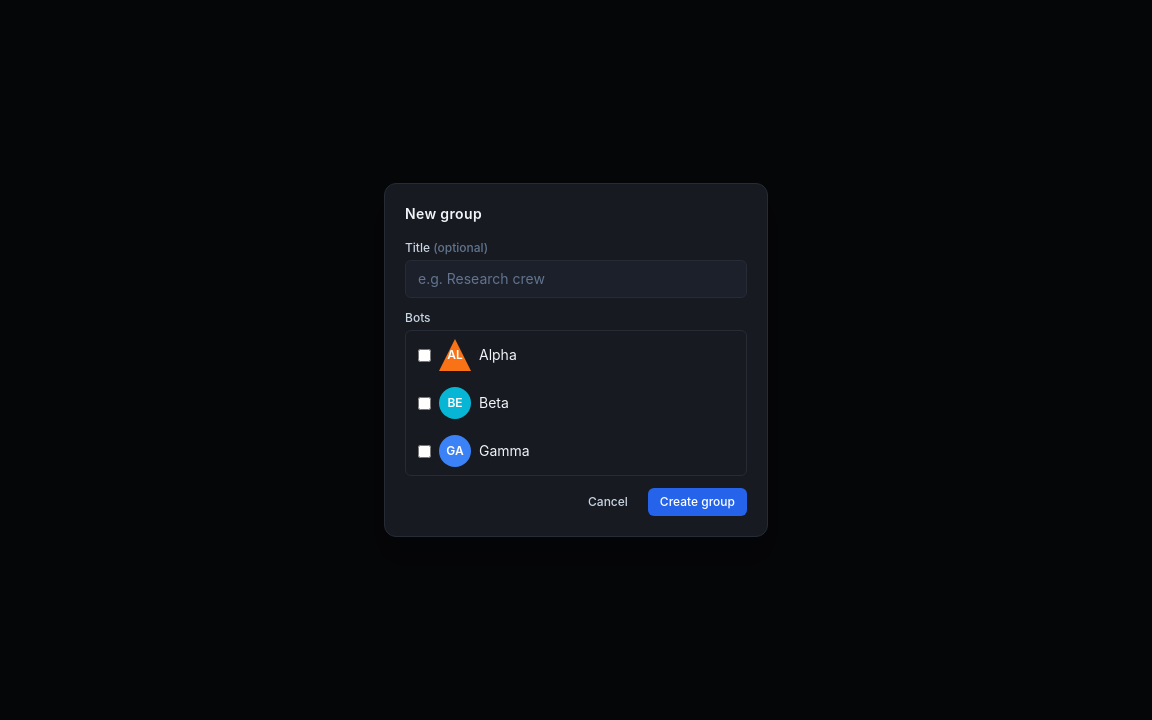
Test case: GroupThreadDialog › rejects fewer than two selected bots client-side without sending a request
Click the option "AL Alpha".
click(455, 355)  # box [406,331,746,379]
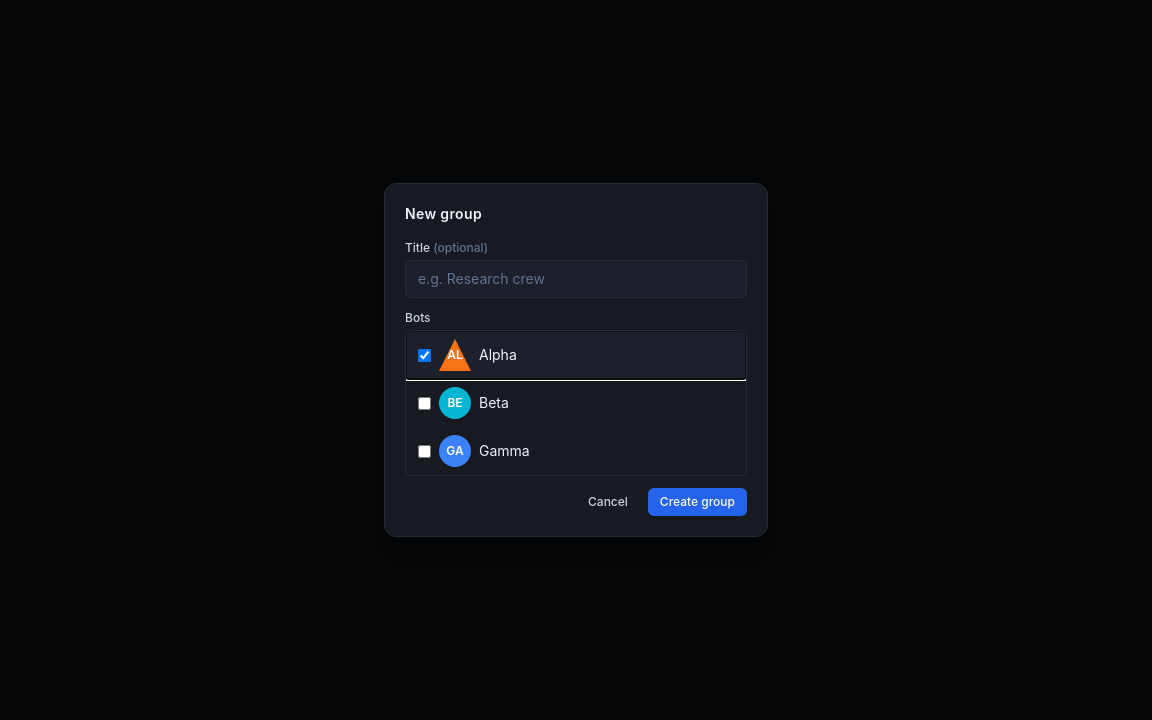
Click the button "Create group".
click(697, 502)  # box [648,488,747,516]
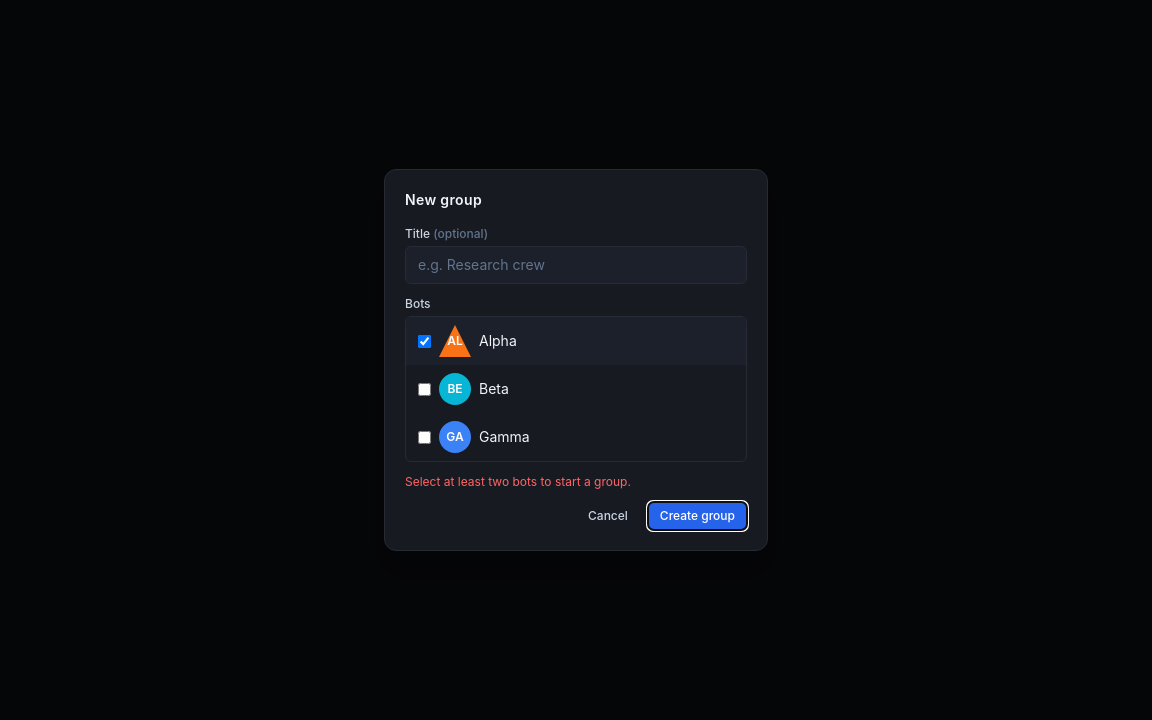
expect the message shows "at least two": met, box [405,474,631,489]
